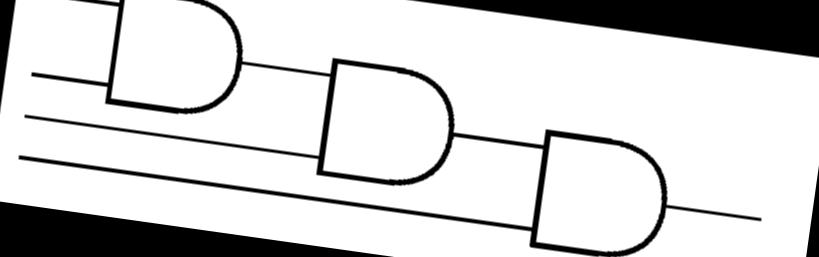and: (294, 43, 475, 205), (512, 110, 698, 257), (70, 0, 258, 133)
